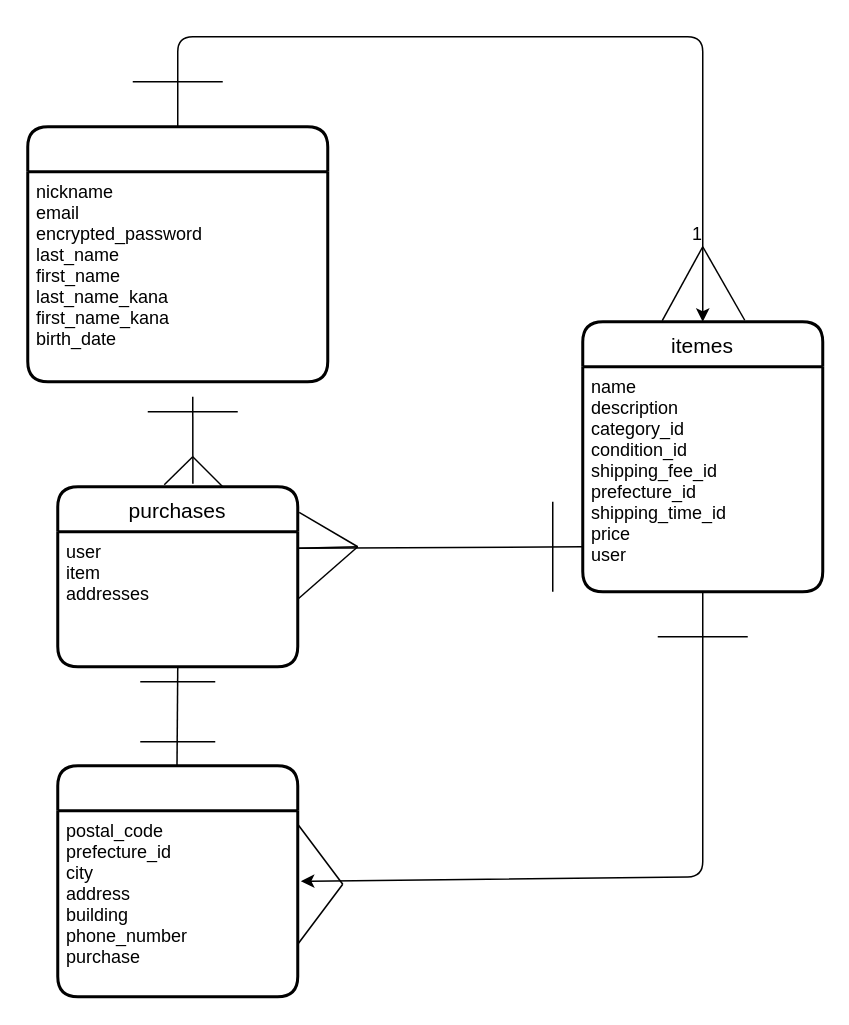
The diagram is 849 pixels wide and 1025 high, and some of its shapes have lost their labels. Here are the shapes that lost their labels. From the top down, the box of each, then its label:
(26, 124, 328, 382): users
(56, 764, 298, 998): addresses
